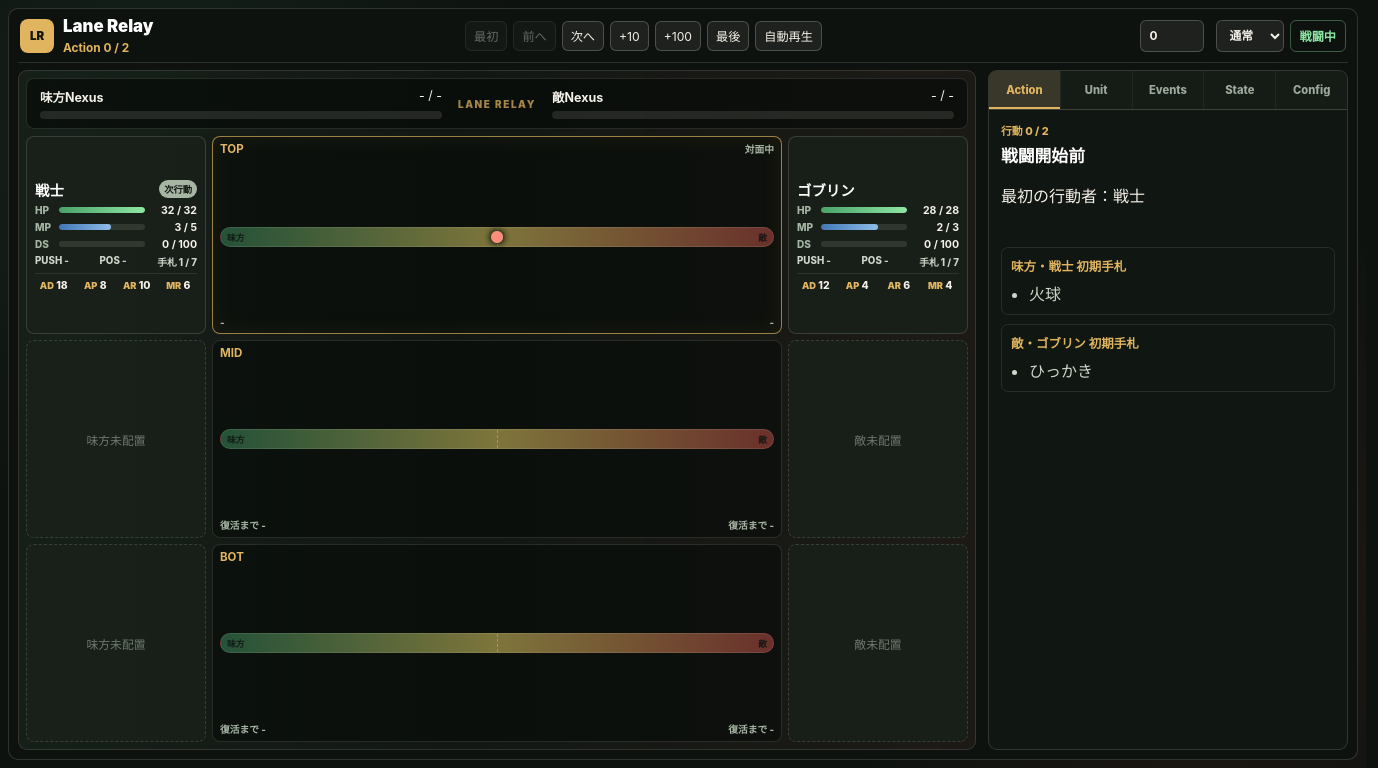
it: App › renders Japanese names and card chips in normal display
The image size is (1378, 768).
Click the button "次へ".
click(583, 36)  # box [562,21,604,51]
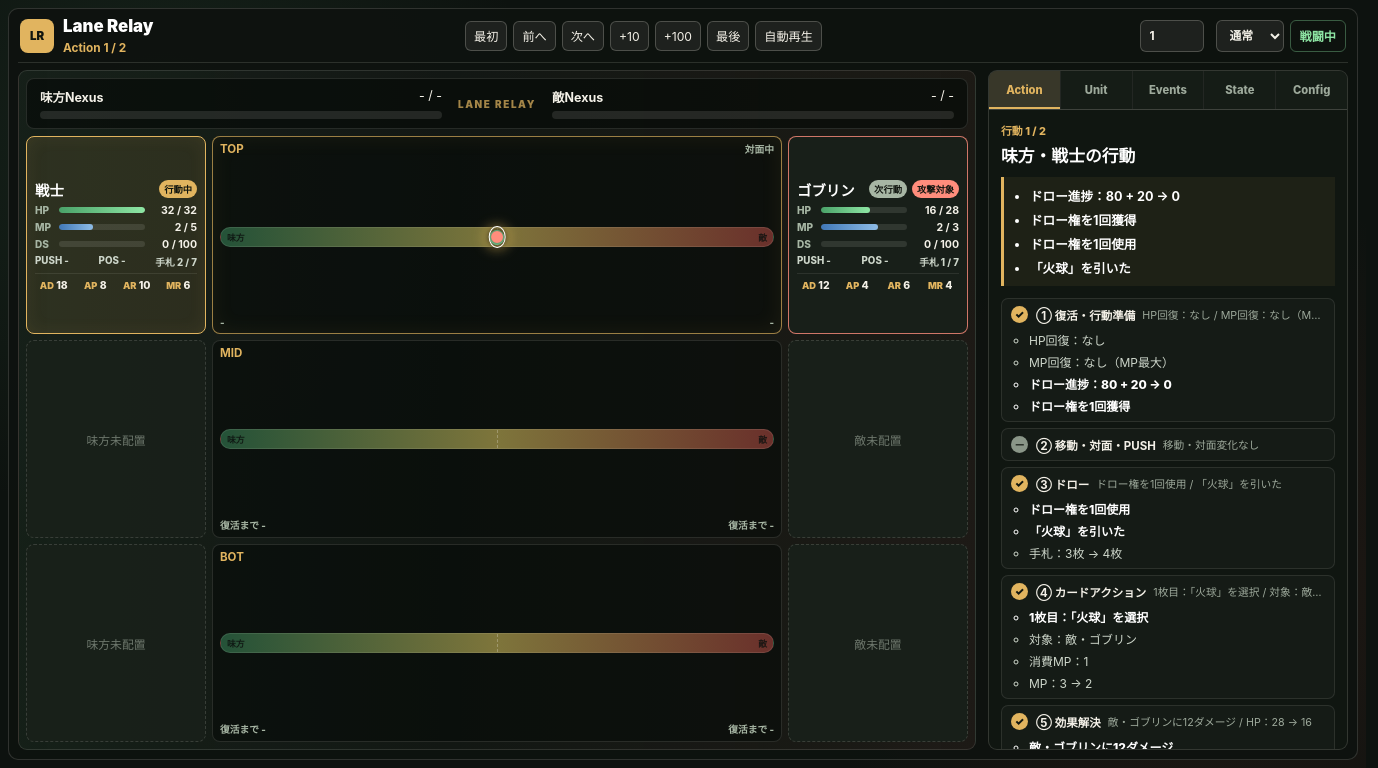
Check: the element with class "battlefield-panel" shows "戦士", box [26,136,206,334]
Check: the element with class "battlefield-panel" shows "手札 2 / 7", box [26,136,206,334]
